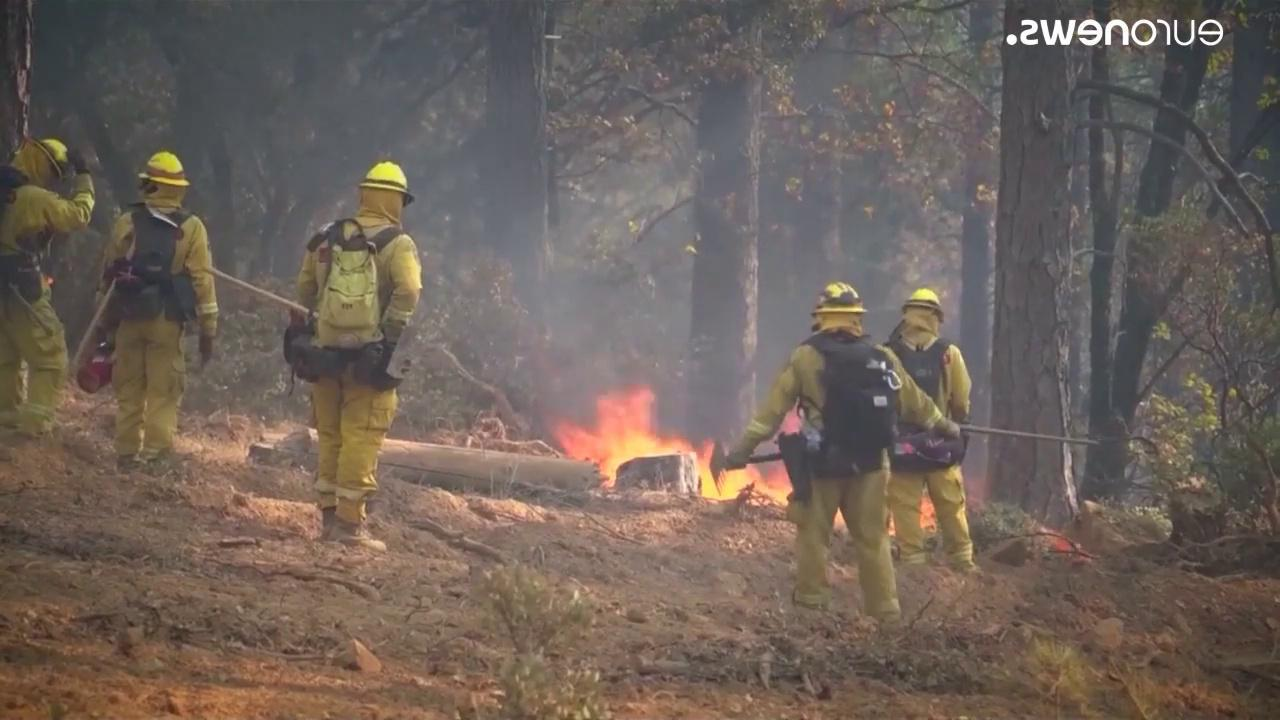Fire: (545, 385, 778, 515), (922, 498, 935, 531)
